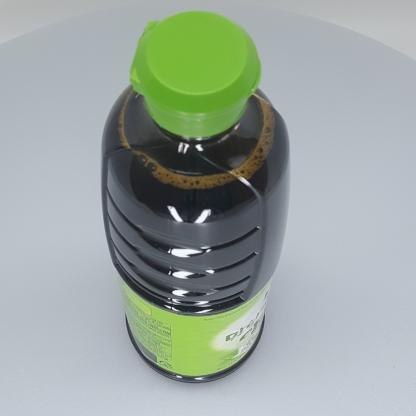-------------: (100, 11, 291, 384)
